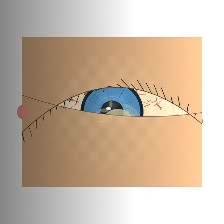corneal_ulcer: (94, 101, 142, 139)
